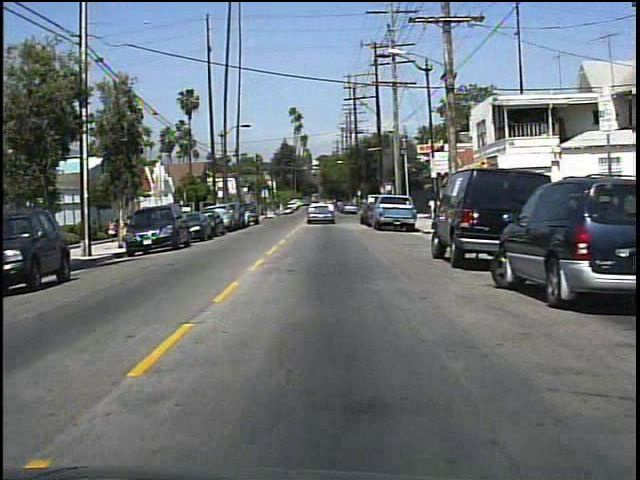person: (423, 193, 440, 222)
